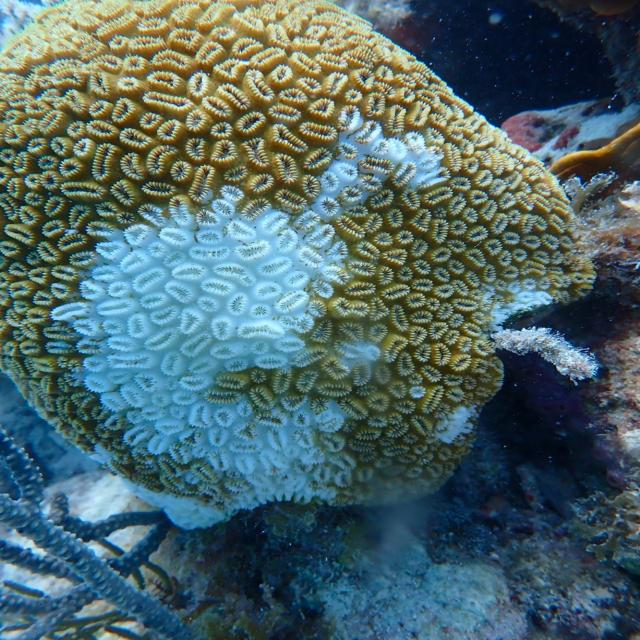Coral: (1, 0, 600, 533)
